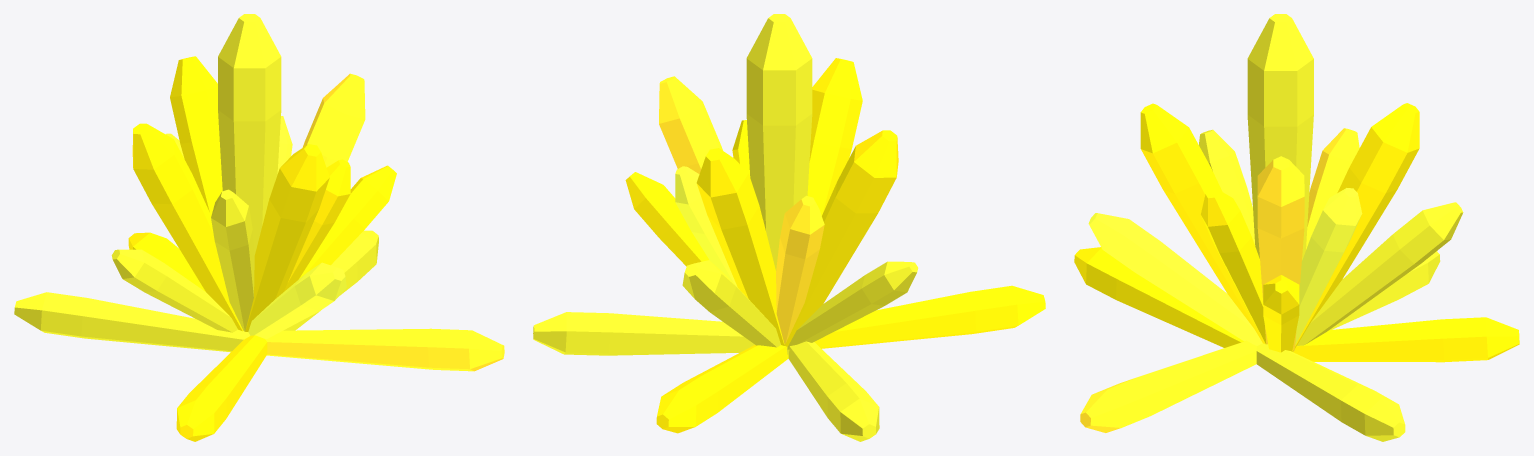
File: broomstone.fbx
3 views of the same model, side by side, from view 1: azimuth 30°, elevation 25°; view 2: azimuth 150°, elevation 25°; view 3: azimuth 270°, elevation 25° (orthographic). The views are drawn at different scales.
Parts seen in each view (by area): view 1: Circle, Circle.014, Circle.007, Circle.016, Circle.002, Circle.001, Circle.015, Circle.012, Circle.008, Circle.005, Circle.003, Circle.006 (+4 smaller); view 2: Circle, Circle.017, Circle.007, Circle.015, Circle.001, Circle.002, Circle.013, Circle.016, Circle.009, Circle.008, Circle.005, Circle.004 (+3 smaller); view 3: Circle, Circle.013, Circle.002, Circle.003, Circle.001, Circle.014, Circle.004, Circle.017, Circle.005, Circle.015, Circle.011, Circle.010 (+4 smaller).
Part boxes in pixels (box(x1,y1,x2,y2)): Circle: box(218, 14, 281, 254); Circle.014: box(265, 328, 504, 371); Circle.007: box(132, 123, 243, 331); Circle.016: box(14, 292, 250, 352); Circle.002: box(245, 144, 329, 331); Circle.001: box(170, 56, 222, 215); Circle.015: box(176, 335, 267, 441); Circle.012: box(211, 189, 254, 331); Circle.008: box(111, 249, 237, 332); Circle.005: box(302, 73, 365, 167); Circle.003: box(248, 262, 346, 338); Circle.006: box(299, 165, 396, 278); Circle: box(746, 14, 812, 354); Circle.017: box(533, 312, 754, 355); Circle.007: box(784, 130, 898, 346); Circle.015: box(814, 285, 1045, 348); Circle.001: box(696, 148, 784, 345); Circle.002: box(807, 58, 862, 215); Circle.013: box(656, 345, 788, 433); Circle.016: box(788, 341, 879, 441); Circle.009: box(776, 195, 824, 343); Circle.008: box(787, 261, 918, 349); Circle.005: box(659, 76, 722, 173); Circle.004: box(682, 260, 780, 347); Circle: box(1247, 14, 1313, 260); Circle.013: box(1293, 317, 1519, 362); Circle.002: box(1140, 103, 1265, 343); Circle.003: box(1088, 213, 1262, 345); Circle.001: box(1292, 103, 1419, 351); Circle.014: box(1080, 340, 1256, 432); Circle.004: box(1297, 202, 1463, 345); Circle.017: box(1256, 343, 1405, 441); Circle.005: box(1257, 156, 1304, 351); Circle.015: box(1074, 247, 1243, 347); Circle.011: box(1201, 188, 1266, 343); Circle.010: box(1295, 188, 1362, 344).
Bounding box in the file's own units: 1265 × 1145 × 1340.
